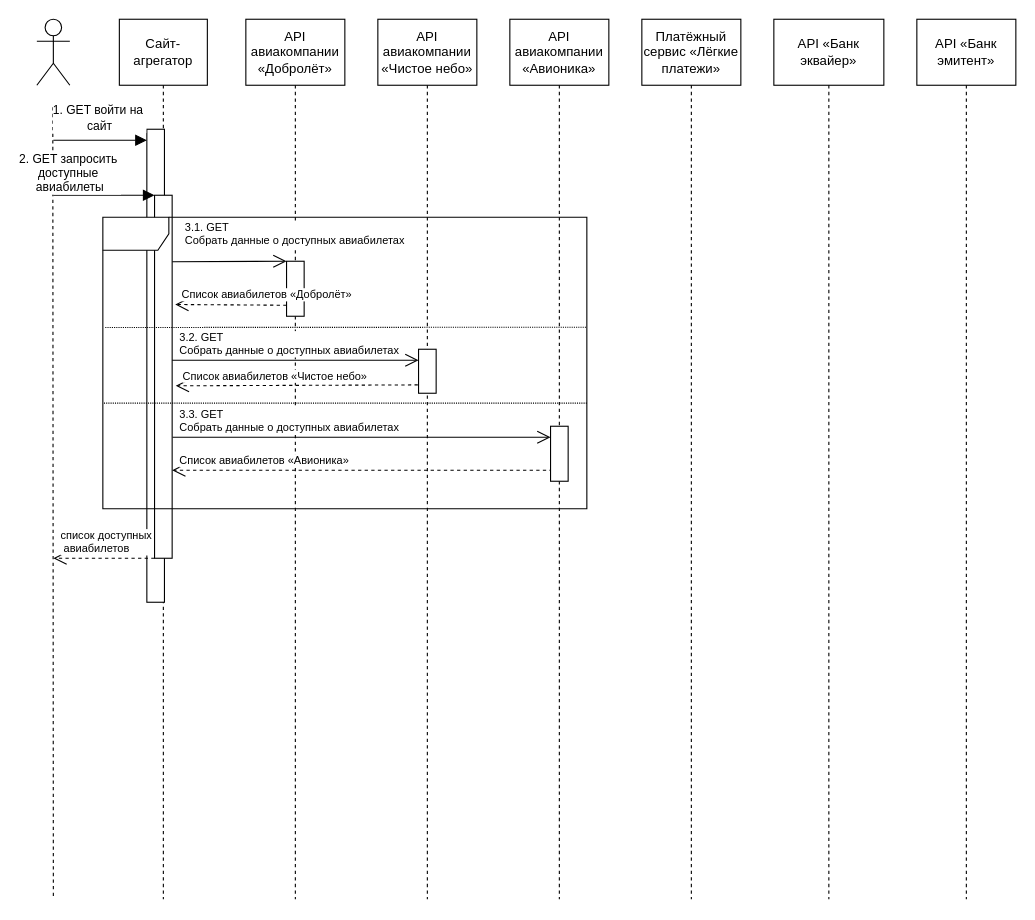
The diagram is 1035 pixels wide and 920 high, and some of its shapes have lost their labels. Each missing label, with the box of its shape:
par: (102, 216, 587, 509)
Клиент: (36, 18, 70, 85)
